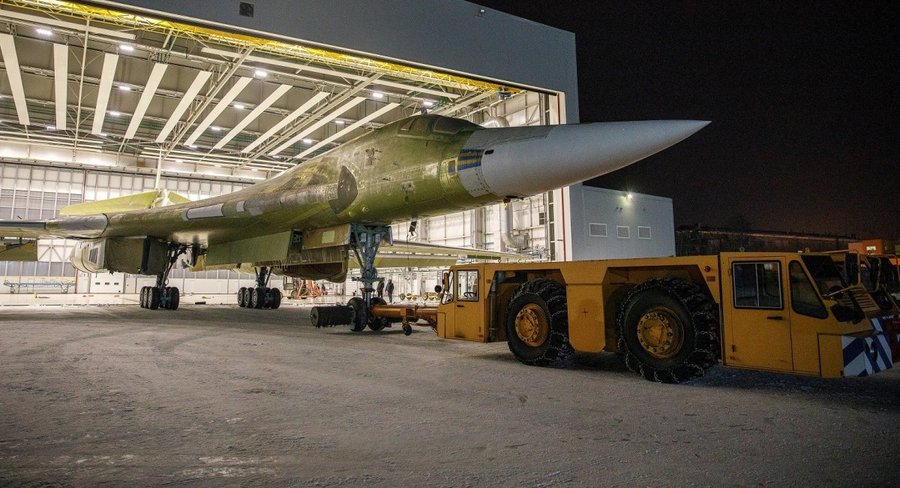airplane: (1, 114, 713, 332)
